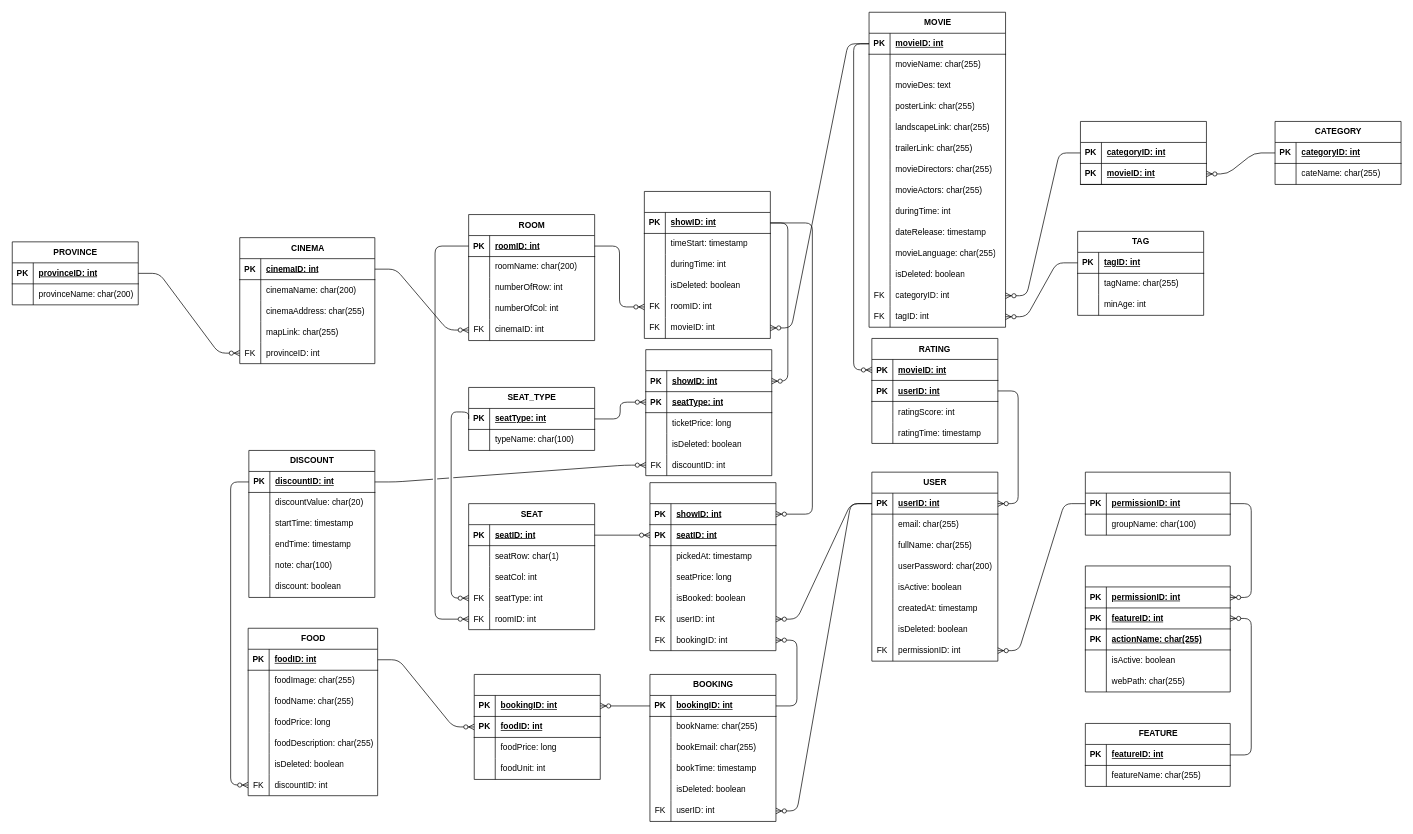
This 1413x834 diagram has some shape labels left out. The shapes that lost their labels are listed below. From the top down, each one's box as (x1, y1, x2, y2) in pixels, then its label:
(1080, 121, 1206, 184): MOVIE_CATEGORY
(644, 191, 770, 338): SHOWTIME
(645, 349, 772, 476): SHOWTIME_PRICE
(1085, 471, 1230, 535): GROUP_PERMISSION
(649, 482, 776, 651): SEAT_SHOWTIME
(1085, 565, 1230, 692): FEATURE_PERMISSION
(474, 674, 600, 779): FOOD_BOOKING
